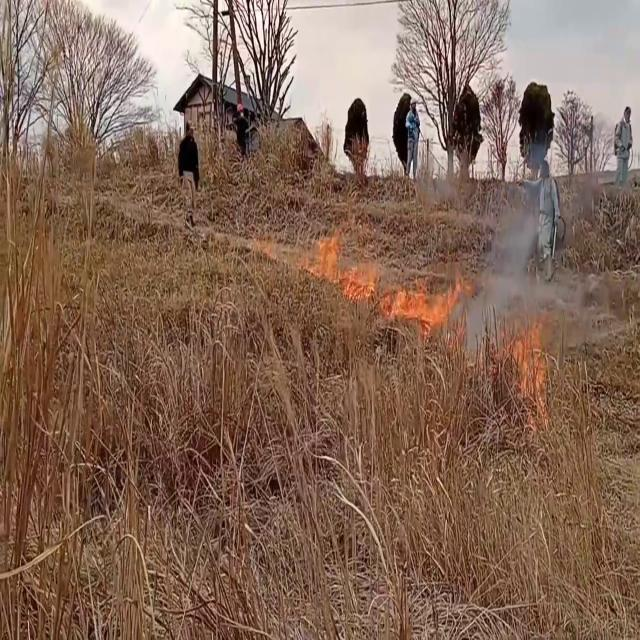Fire: (298, 212, 393, 309), (499, 293, 566, 414), (388, 260, 467, 354)
Smoke: (475, 195, 549, 333)
